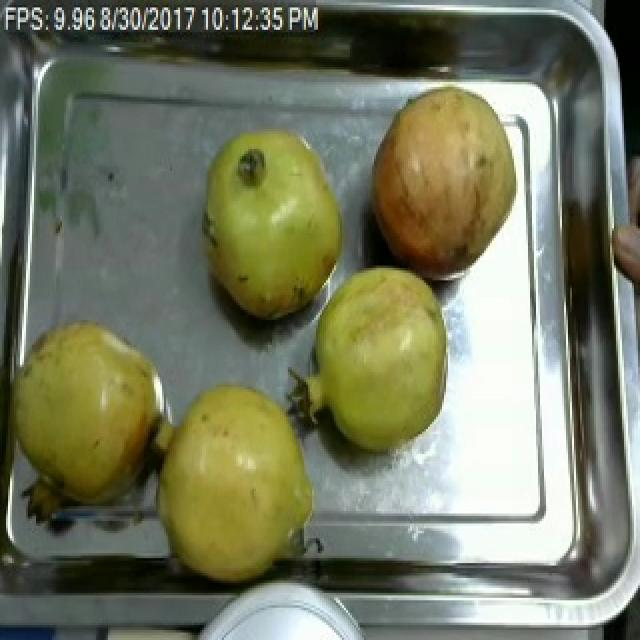fruit: (144, 362, 332, 596), (0, 303, 176, 528), (278, 256, 458, 467), (364, 72, 528, 288), (192, 116, 354, 328)
